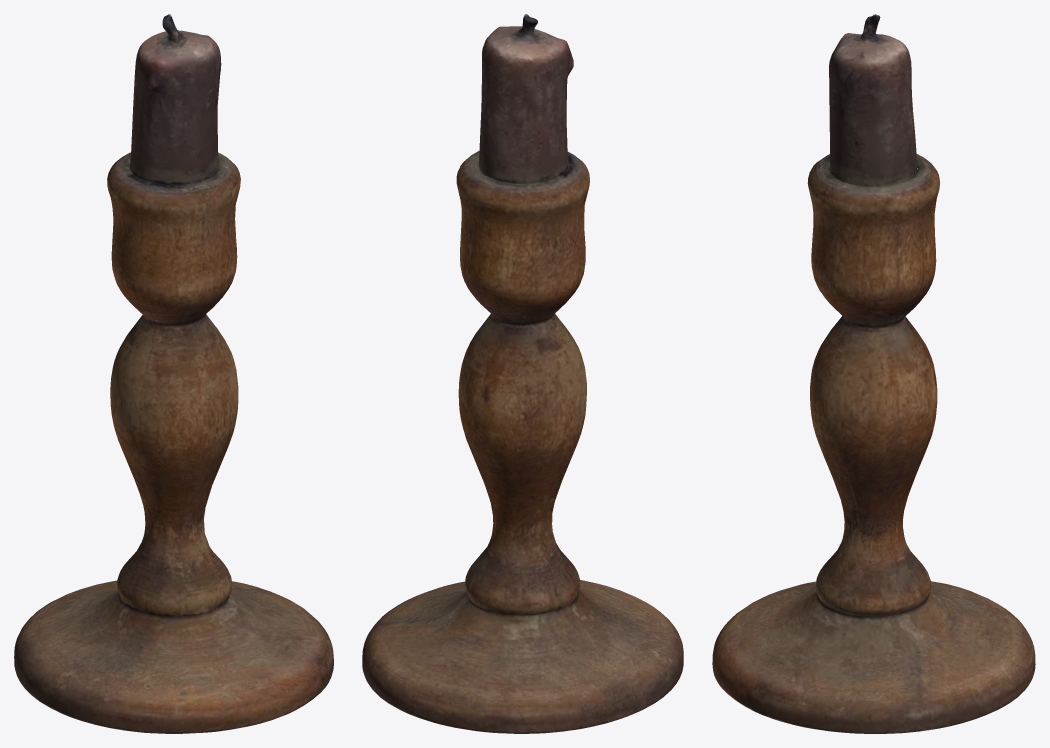
File: wooden_candlestick.glb
3 renders of one model, left to right at view 1: azimuth 30°, elevation 25°; view 2: azimuth 150°, elevation 25°; view 3: azimuth 270°, elevation 25°, orthographic.
Visible parts, largest first — view 1: wooden_candlestick; view 2: wooden_candlestick; view 3: wooden_candlestick.
Part boxes in pixels (x1,y1,x2,y2): wooden_candlestick: (14,14,333,733); wooden_candlestick: (362,14,683,733); wooden_candlestick: (712,14,1035,733).
Size of the model in its own units: 0.0972 by 0.2196 by 0.0986.
Materials: 1 (1 with a texture image).
